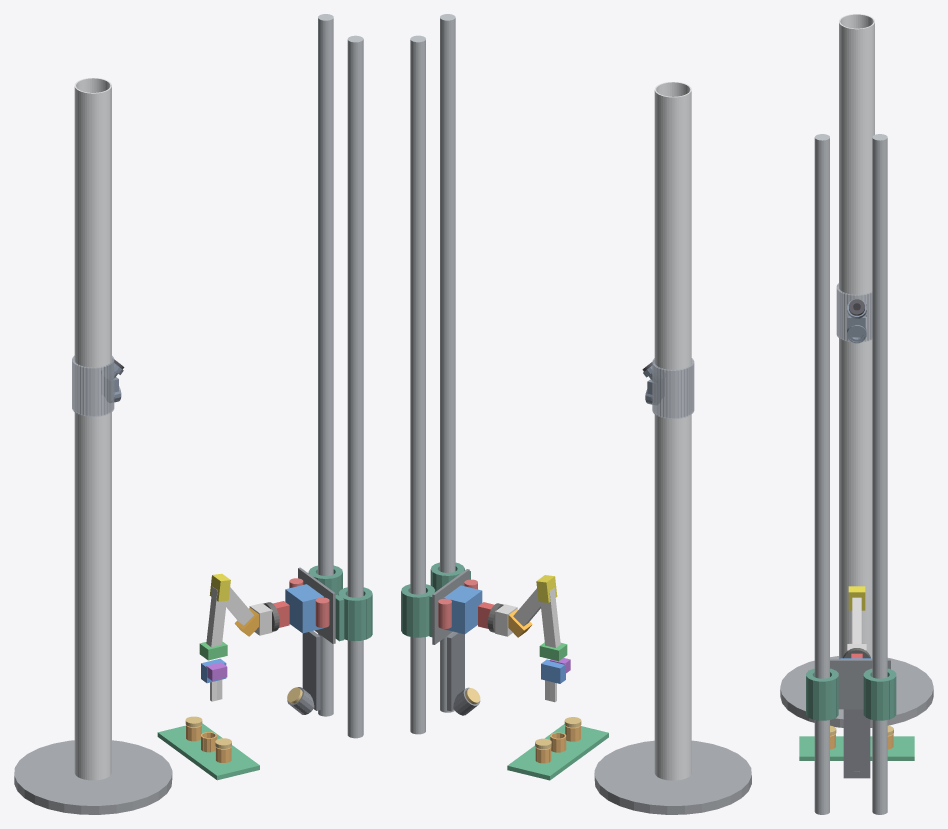
File: transplant-seedling-step1-pick-v1.glb
The picture shows the model from 3 angles, left to right: view 1: azimuth 30°, elevation 25°; view 2: azimuth 150°, elevation 25°; view 3: azimuth 270°, elevation 25°; orthographic projection. The views are drawn at different scales.
Bounding box in the file's own units: 0.7641 × 1.55 × 0.32.
